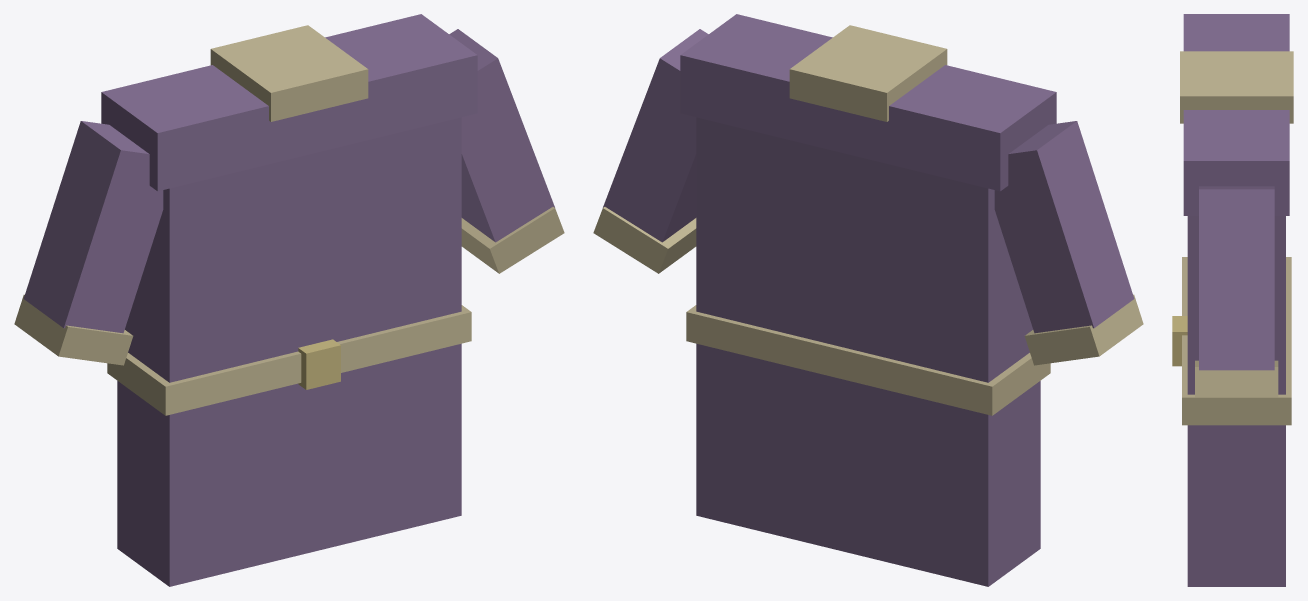
Rendered from scholar_robe.glb.
3 renders of one model, left to right at view 1: azimuth 30°, elevation 25°; view 2: azimuth 150°, elevation 25°; view 3: azimuth 270°, elevation 25°, orthographic. The views are drawn at different scales.
Parts seen in each view (by area): view 1: scholar_robe; view 2: scholar_robe; view 3: scholar_robe.
Part boxes in pixels (box(x1,y1,x2,y2)): scholar_robe: box(14, 14, 564, 586); scholar_robe: box(593, 14, 1143, 586); scholar_robe: box(1172, 14, 1293, 586).
Bounding box in the file's own units: 0.7277 × 0.65 × 0.16.
